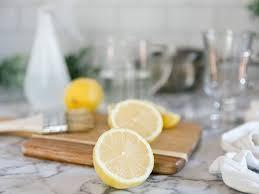lemon: (93, 128, 154, 188), (108, 99, 163, 142), (64, 78, 103, 111)
